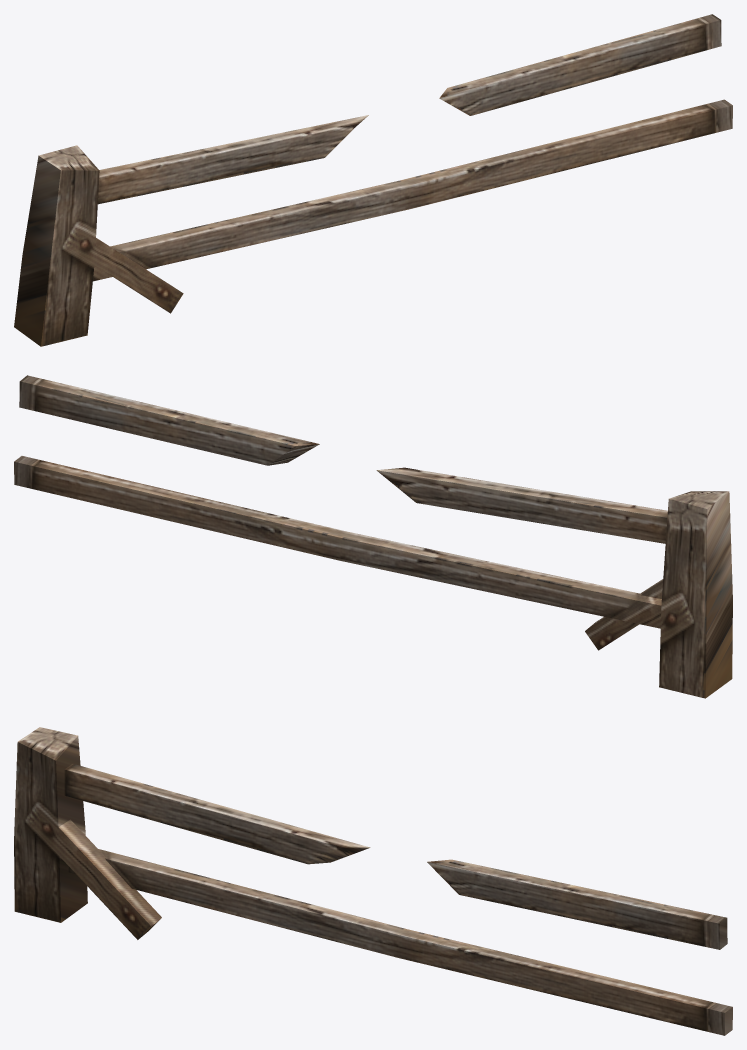
Rendered from start_fence_15.glb.
3 views of the same model, one above another, from view 1: azimuth 30°, elevation 25°; view 2: azimuth 150°, elevation 25°; view 3: azimuth 330°, elevation 25° (orthographic).
Visible parts, largest first — view 1: start_fence_15_game; view 2: start_fence_15_game; view 3: start_fence_15_game.
Part boxes in pixels (left/top/right/bottom): start_fence_15_game: left=14, top=14, right=732, bottom=346; start_fence_15_game: left=14, top=375, right=732, bottom=698; start_fence_15_game: left=14, top=727, right=732, bottom=1035.
Size of the model in its own units: 4.75 by 1.16 by 0.4149.
1 material, 1 textured.
